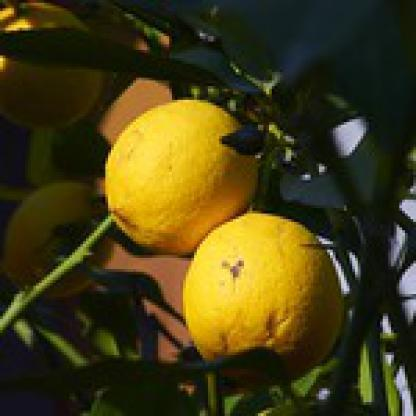lemon: (183, 212, 344, 366), (106, 99, 256, 256), (1, 179, 116, 299), (0, 2, 101, 130)
